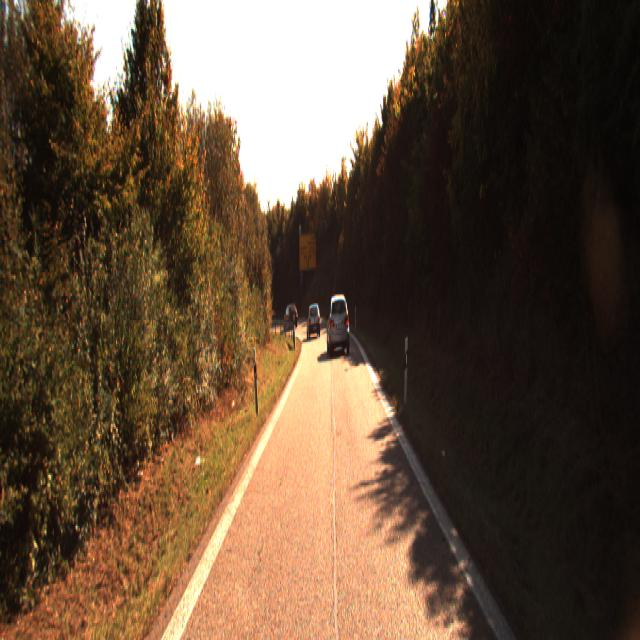Car: (327, 291, 349, 352), (308, 306, 322, 341), (284, 306, 298, 331)
